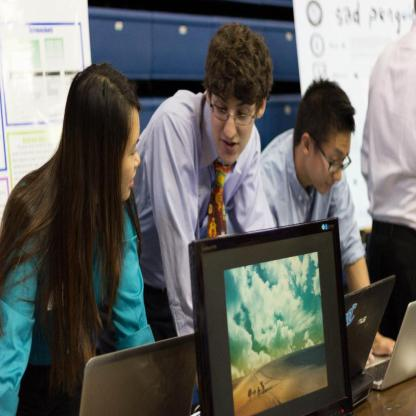board: (77, 334, 210, 414), (346, 275, 396, 405), (363, 302, 416, 392)
